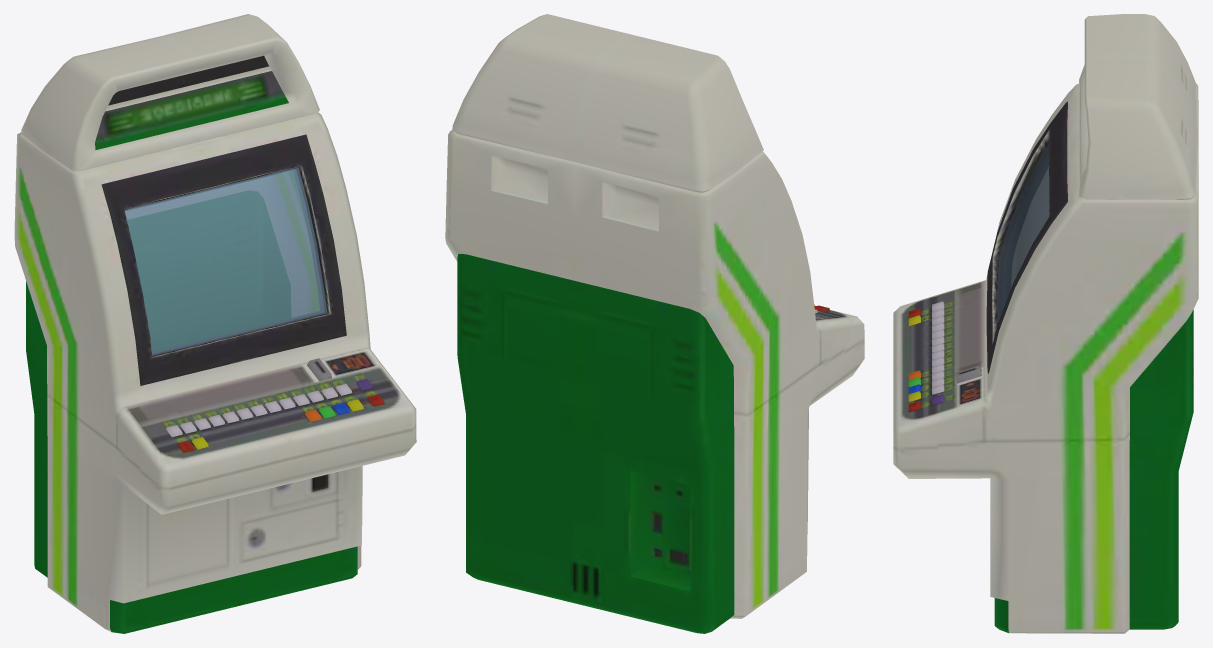
The picture shows the model from 3 angles, left to right: view 1: azimuth 30°, elevation 25°; view 2: azimuth 150°, elevation 25°; view 3: azimuth 270°, elevation 25°; orthographic projection. The views are drawn at different scales.
Size of the model in its own units: 9.43 by 18.05 by 9.65.
Materials: 2 (1 with a texture image).
